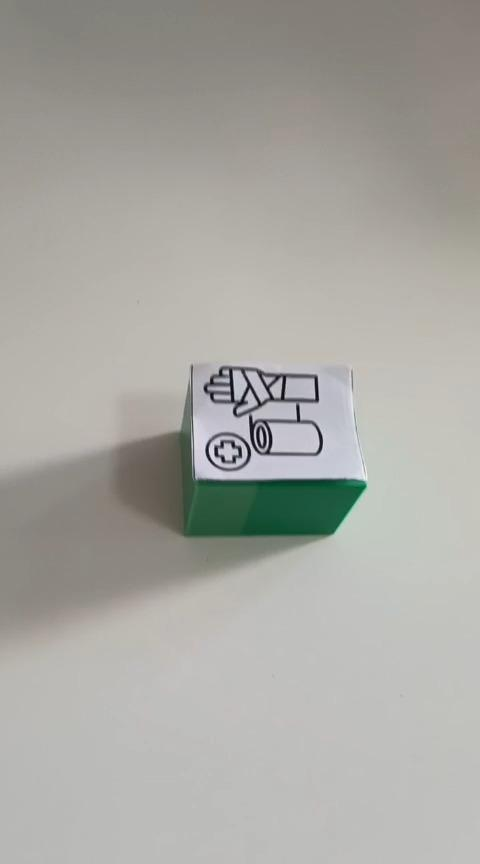Bandages: (178, 360, 367, 537)
